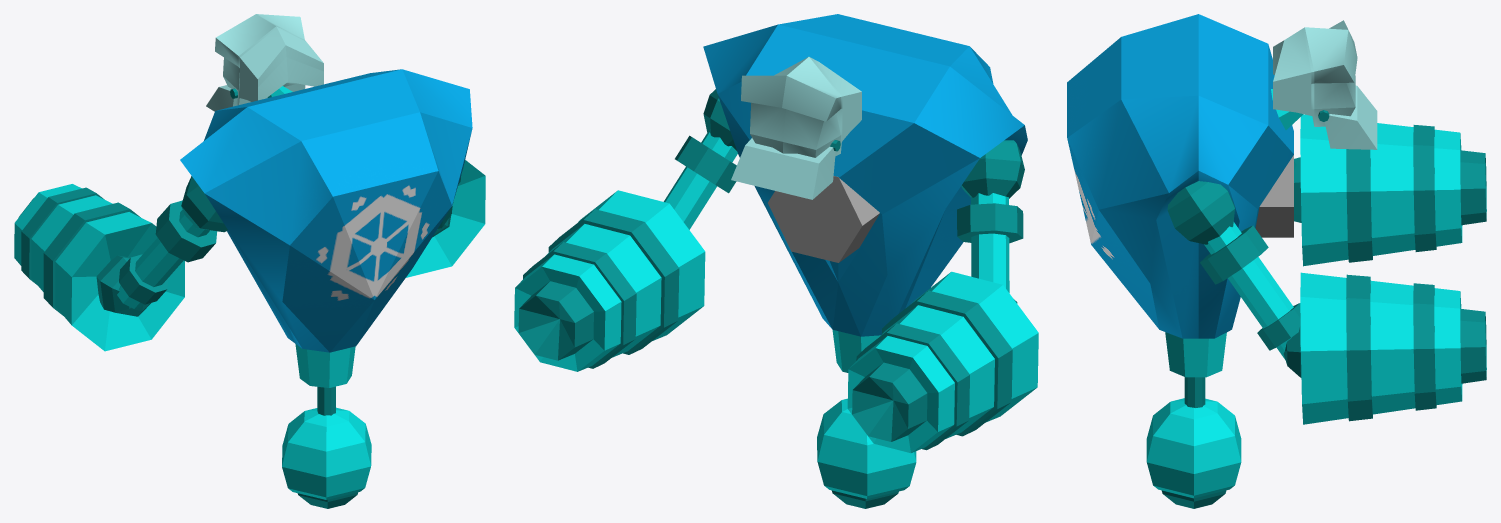
Rendered from bot_blue.fbx.
3 renders of one model, left to right at view 1: azimuth 30°, elevation 25°; view 2: azimuth 150°, elevation 25°; view 3: azimuth 270°, elevation 25°, orthographic. The views are drawn at different scales.
Visible parts, largest first — view 1: pasted__pCylinder58, pasted__pCylinder45, pasted__pCube6, pasted__pSphere27, pasted__pCylinder49, pasted__pCylinder56, pasted__pCylinder46, pasted__pCylinder42, pasted__pCylinder43, pasted__pCylinder47, pasted__pSphere24, pasted__pSphere23 (+2 smaller); view 2: pasted__pCylinder58, pasted__pCylinder45, pasted__pCylinder49, pasted__pCube6, pasted__pSphere27, pCylinder2, pasted__pCylinder48, pasted__pCylinder52, pasted__pCube7, pasted__pCylinder50, pasted__pCylinder46, pasted__pCylinder47 (+9 smaller); view 3: pasted__pCylinder58, pasted__pCylinder49, pasted__pCylinder45, pasted__pSphere27, pasted__pCube6, pasted__pCylinder50, pasted__pSphere25, pasted__pCylinder53, pasted__pCylinder46, pasted__pCylinder51, pasted__pCylinder47, pasted__pCylinder56 (+9 smaller).
Boxes of the visible parts, x1=… form: pasted__pCylinder58: x1=180, y1=69, x2=472, y2=352; pasted__pCylinder45: x1=14, y1=184, x2=184, y2=351; pasted__pCube6: x1=215, y1=14, x2=323, y2=105; pasted__pSphere27: x1=282, y1=407, x2=371, y2=499; pasted__pCylinder49: x1=406, y1=160, x2=485, y2=277; pasted__pCylinder56: x1=295, y1=344, x2=355, y2=387; pasted__pCylinder46: x1=43, y1=202, x2=140, y2=315; pasted__pCylinder42: x1=117, y1=210, x2=209, y2=308; pasted__pCylinder43: x1=155, y1=200, x2=217, y2=262; pasted__pCylinder47: x1=21, y1=187, x2=104, y2=284; pasted__pSphere24: x1=96, y1=255, x2=150, y2=316; pasted__pSphere23: x1=181, y1=176, x2=227, y2=232; pasted__pCylinder58: x1=703, y1=14, x2=1027, y2=336; pasted__pCylinder45: x1=847, y1=271, x2=1038, y2=453; pasted__pCylinder49: x1=514, y1=190, x2=705, y2=371; pasted__pCube6: x1=741, y1=57, x2=861, y2=157; pasted__pSphere27: x1=817, y1=398, x2=916, y2=498; pCylinder2: x1=768, y1=176, x2=879, y2=262; pasted__pCylinder48: x1=852, y1=362, x2=927, y2=441; pasted__pCylinder52: x1=518, y1=281, x2=593, y2=360; pasted__pCube7: x1=731, y1=138, x2=835, y2=199; pasted__pCylinder50: x1=548, y1=209, x2=679, y2=354; pasted__pCylinder46: x1=882, y1=290, x2=1012, y2=436; pasted__pCylinder47: x1=856, y1=323, x2=969, y2=450; pasted__pCylinder58: x1=1067, y1=14, x2=1293, y2=338; pasted__pCylinder49: x1=1300, y1=272, x2=1462, y2=424; pasted__pCylinder45: x1=1300, y1=114, x2=1462, y2=266; pasted__pSphere27: x1=1146, y1=398, x2=1241, y2=498; pasted__pCube6: x1=1273, y1=20, x2=1357, y2=126; pasted__pCylinder50: x1=1346, y1=274, x2=1372, y2=421; pasted__pSphere25: x1=1167, y1=181, x2=1234, y2=244; pasted__pCylinder53: x1=1204, y1=222, x2=1293, y2=359; pasted__pCylinder46: x1=1346, y1=149, x2=1372, y2=262; pasted__pCylinder51: x1=1413, y1=283, x2=1436, y2=410; pasted__pCylinder47: x1=1413, y1=125, x2=1436, y2=251; pasted__pCylinder56: x1=1165, y1=332, x2=1226, y2=377.
Bounding box in the file's own units: 16.77 × 17.12 × 13.64.
5 materials, 1 textured.
